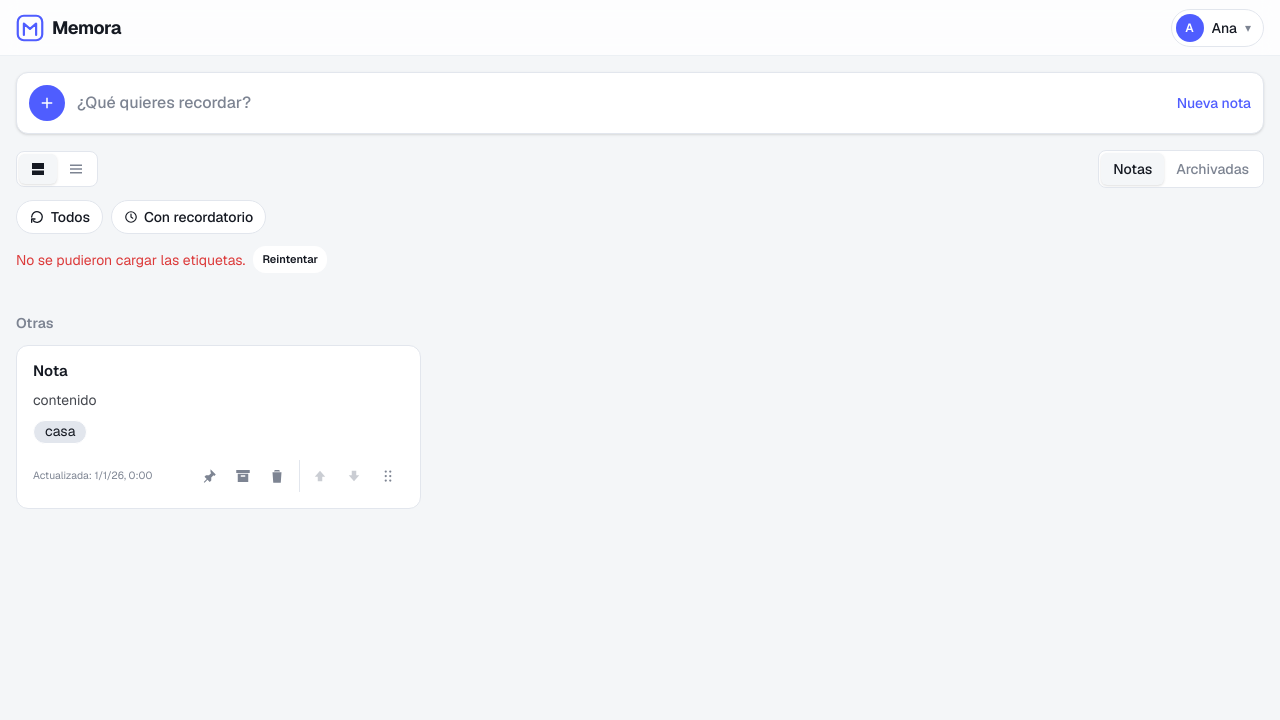
Test: NotesPage · filtros › muestra error de etiquetas con reintento (RF-3)
Expected: the heading "Nota" is shown, left=33, top=361, right=68, bottom=380
Expected: the message reads "No se pudieron cargar las etiquetas.", left=16, top=250, right=245, bottom=268
Click the button "Reintentar": (290, 260) left=253, top=246, right=327, bottom=273
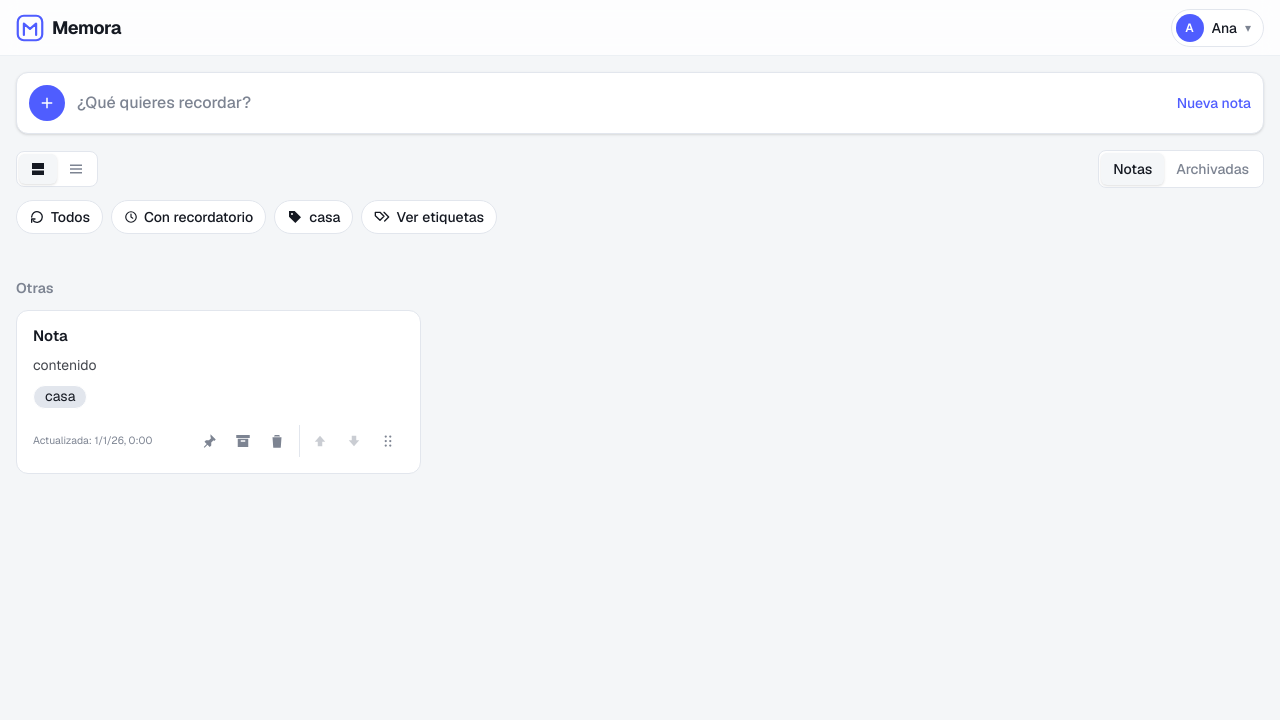
Expected: the button "casa" is shown, left=274, top=200, right=354, bottom=234
